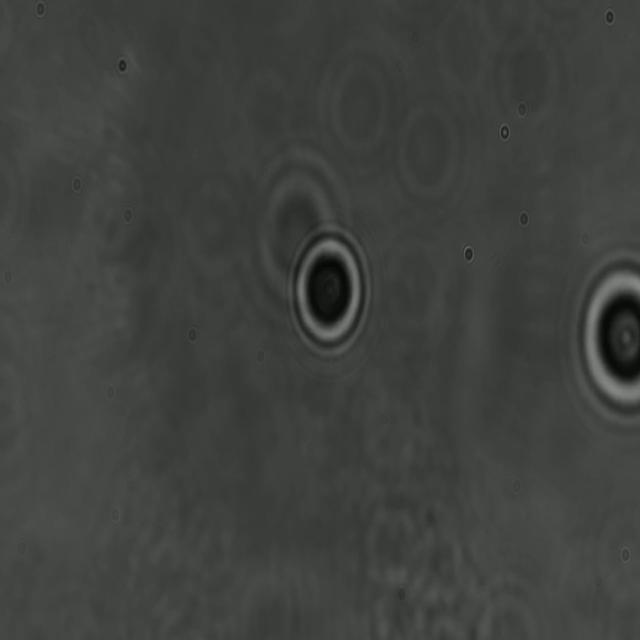DCELL: (280, 218, 378, 361)
